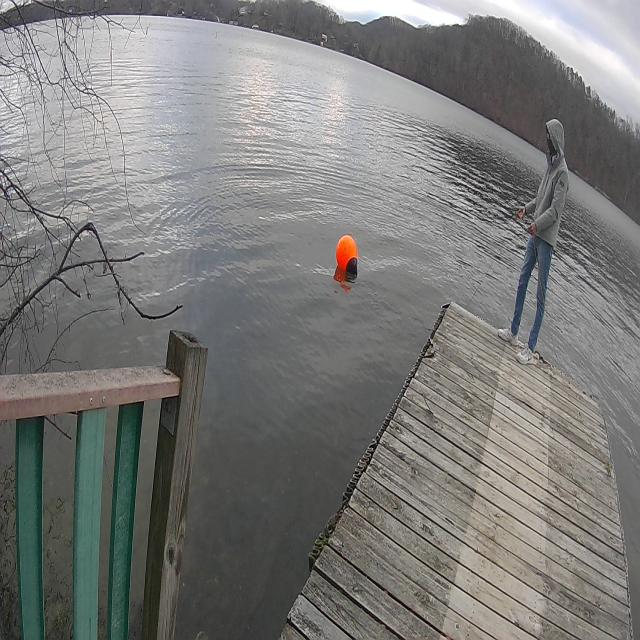Buoy: (333, 224, 362, 291)
